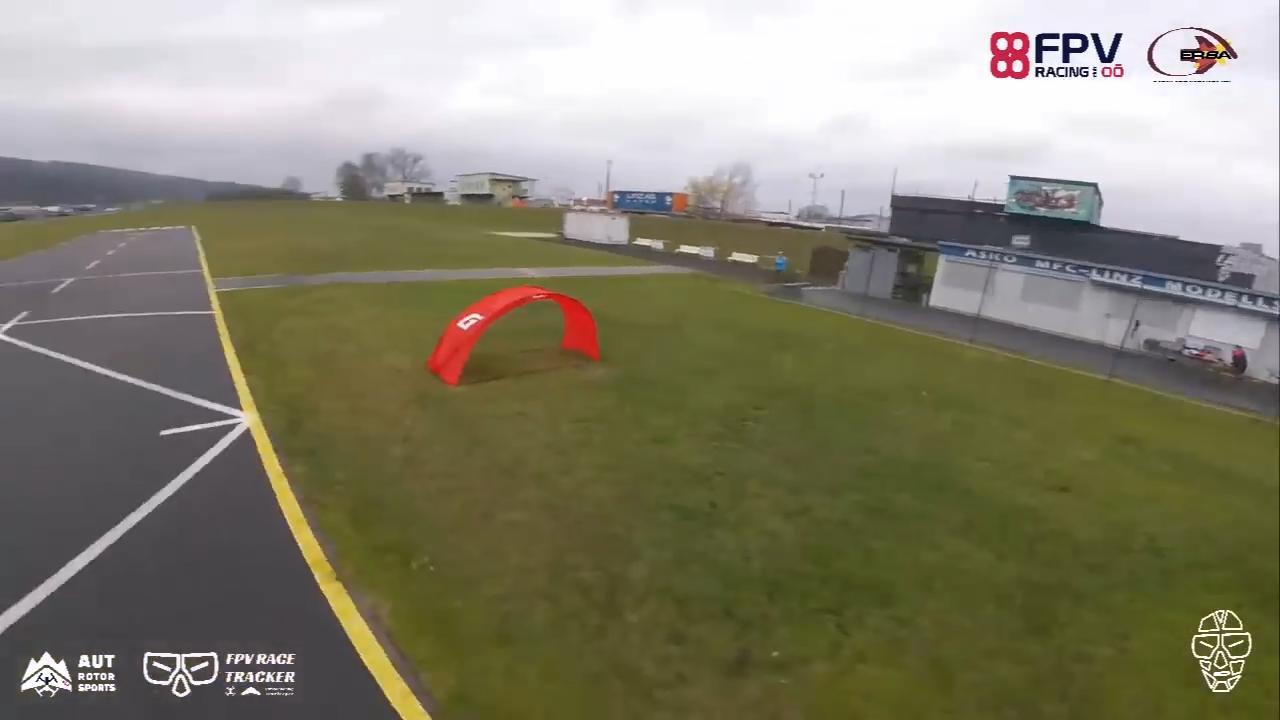gate: (422, 286, 602, 392)
